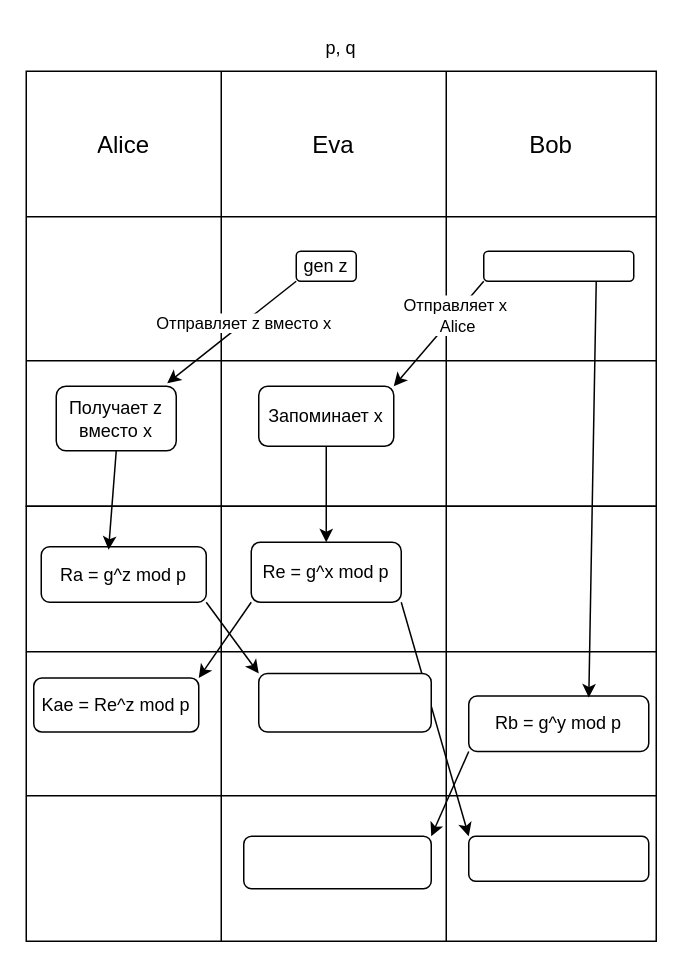
Image size: 683x968. Some labels were removed from this diagram. Each missing label, with the box of its shape:
gen x, y: (482, 250, 634, 281)
Kae = Ra^x mod p: (257, 672, 431, 732)
Keb = Rb^x mod p: (242, 835, 431, 889)
Keb = Re^y mod p: (467, 835, 649, 881)
